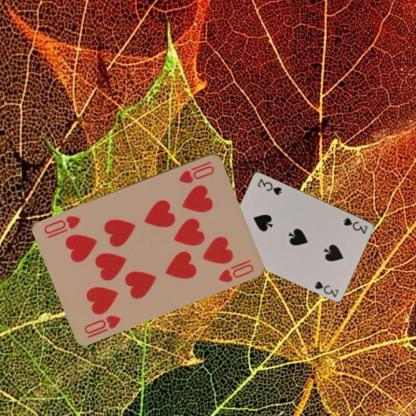10h: (176, 158, 216, 184), (82, 312, 124, 335)
3s: (341, 215, 369, 235)
